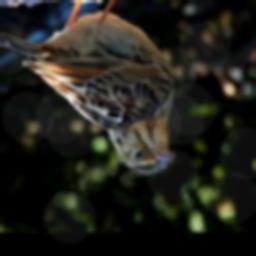Sparrow: (0, 0, 186, 183)
